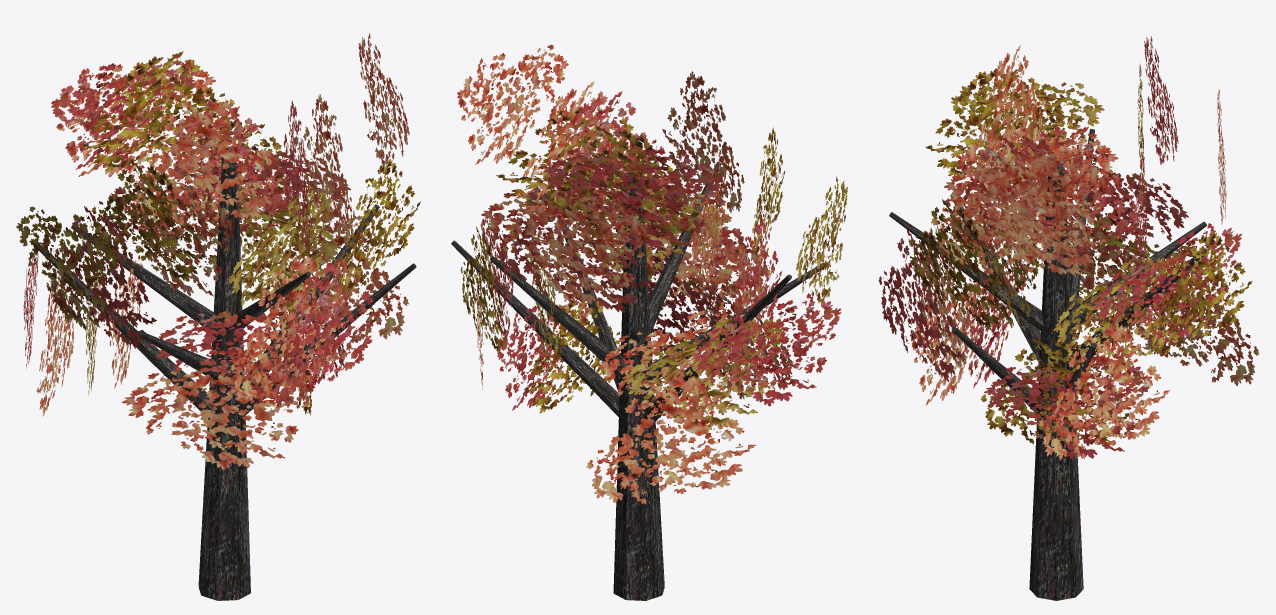
The model's file is broadleaf_autumn_mixed_512_material_test.glb.
3 renders of one model, left to right at view 1: azimuth 30°, elevation 25°; view 2: azimuth 150°, elevation 25°; view 3: azimuth 270°, elevation 25°, orthographic. The views are drawn at different scales.
Parts seen in each view (by area): view 1: foliage_cards, trunk, branch_3, branch_2, branch_6, branch_4, branch_5, branch_0; view 2: foliage_cards, trunk, branch_0, branch_1, branch_5, branch_3, branch_4, branch_6; view 3: foliage_cards, trunk, branch_5, branch_6, branch_2, branch_1, branch_4, branch_3.
Boxes of the visible parts, box(x1,y1,x2,y2) form: foliage_cards: box(16, 33, 420, 469); trunk: box(198, 161, 250, 600); branch_3: box(35, 244, 216, 419); branch_2: box(71, 225, 214, 330); branch_6: box(240, 263, 416, 416); branch_4: box(137, 331, 227, 380); branch_5: box(223, 271, 310, 337); branch_0: box(244, 204, 379, 385); foliage_cards: box(457, 44, 847, 504); trunk: box(613, 172, 664, 600); branch_0: box(451, 240, 619, 416); branch_1: box(490, 256, 633, 380); branch_5: box(649, 161, 721, 333); branch_3: box(643, 274, 791, 423); branch_4: box(649, 263, 823, 379); branch_6: box(558, 209, 619, 391); foliage_cards: box(878, 36, 1259, 459); trunk: box(1029, 165, 1083, 600); branch_5: box(889, 212, 1043, 331); branch_6: box(951, 326, 1051, 420); branch_2: box(1071, 221, 1206, 327); branch_1: box(1066, 248, 1207, 370); branch_4: box(950, 193, 1040, 363); branch_3: box(1069, 129, 1094, 348).
Bounding box in the file's own units: 5.85 × 7.62 × 5.11.
2 materials, 2 textured.
